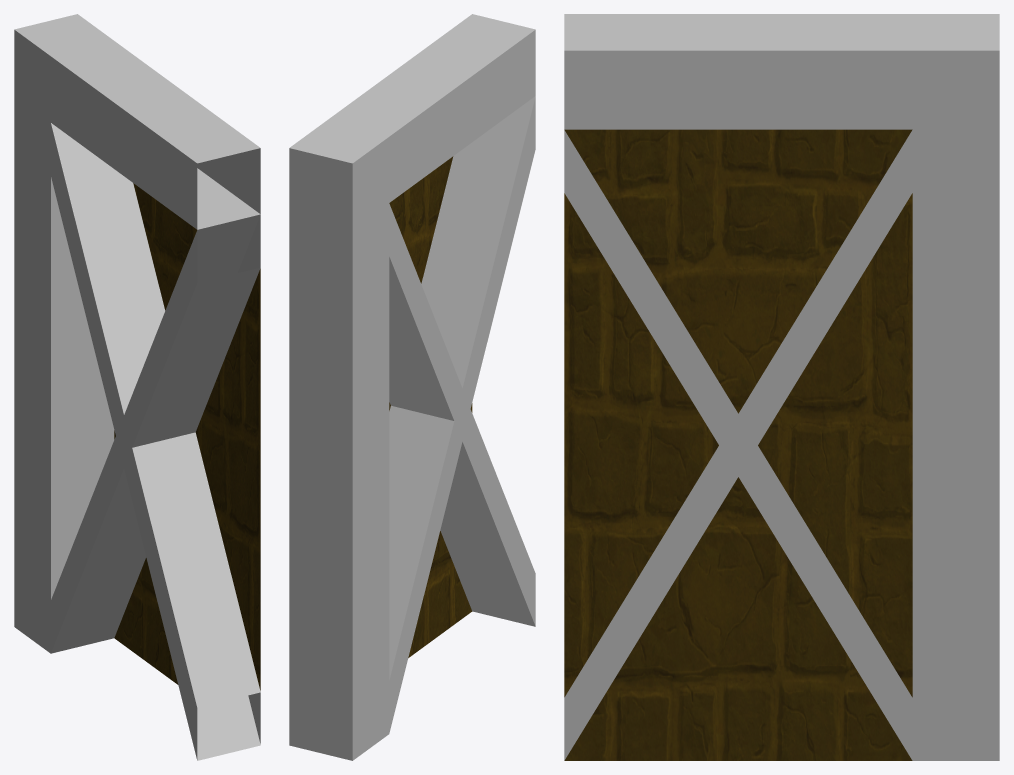
Rendered from WallShortCrossJoin.fbx.
3 renders of one model, left to right at view 1: azimuth 30°, elevation 25°; view 2: azimuth 150°, elevation 25°; view 3: azimuth 270°, elevation 25°, orthographic. The views are drawn at different scales.
Visible parts, largest first — view 1: WallShortCrossJoin; view 2: WallShortCrossJoin; view 3: WallShortCrossJoin.
Part boxes in pixels (box(x1,y1,x2,y2)): WallShortCrossJoin: box(14, 14, 260, 760); WallShortCrossJoin: box(289, 14, 535, 760); WallShortCrossJoin: box(564, 14, 999, 760).
Bounding box in the file's own units: 1 × 9 × 5.
